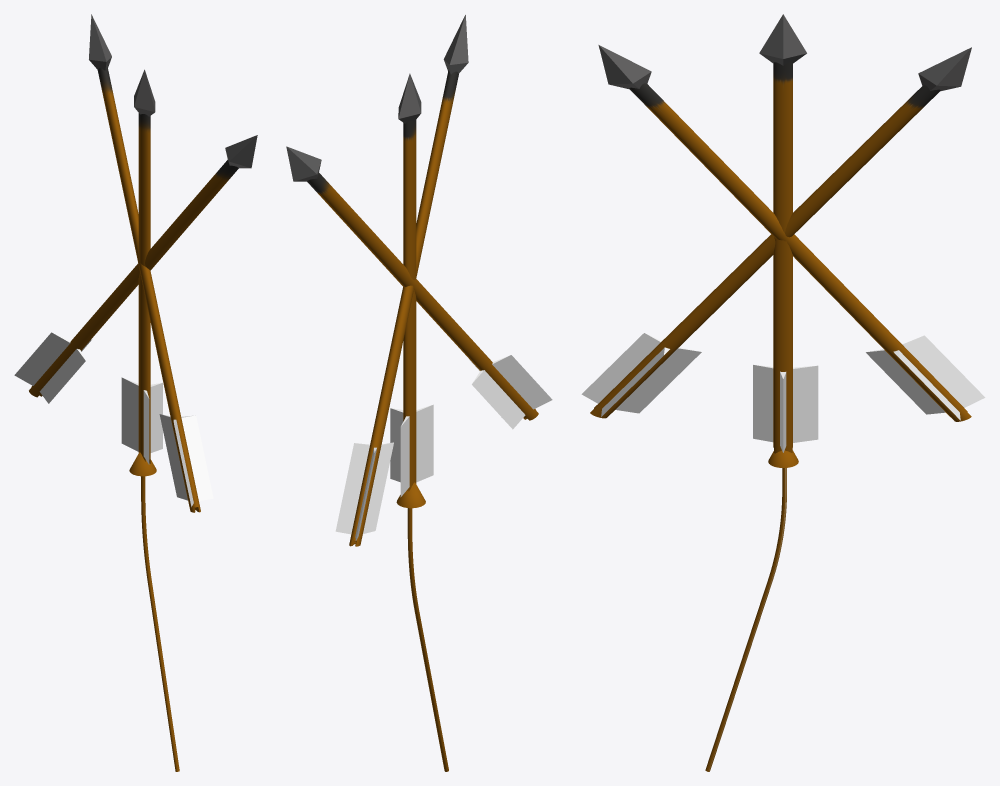
Rendered from Rapid Fire Balloon2.fbx.
3 views of the same model, side by side, from view 1: azimuth 30°, elevation 25°; view 2: azimuth 150°, elevation 25°; view 3: azimuth 270°, elevation 25° (orthographic). The views are drawn at different scales.
Visible parts, largest first — view 1: group1_pasted__pCube4; view 2: group1_pasted__pCube4; view 3: group1_pasted__pCube4.
Part boxes in pixels (x1=…): group1_pasted__pCube4: x1=14, y1=14, x2=257, y2=771; group1_pasted__pCube4: x1=286, y1=15, x2=552, y2=771; group1_pasted__pCube4: x1=581, y1=14, x2=985, y2=771.
Bounding box in the file's own units: 27.04 × 220 × 106.
Materials: 1 (1 with a texture image).
